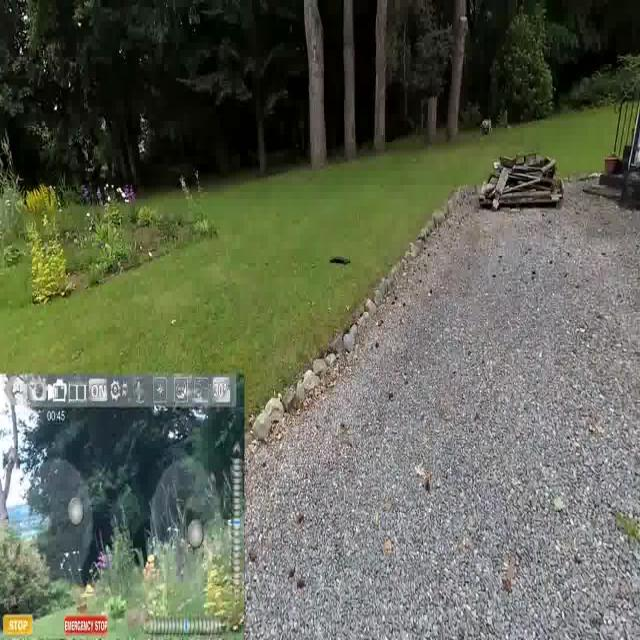drones: (325, 244, 357, 276)
